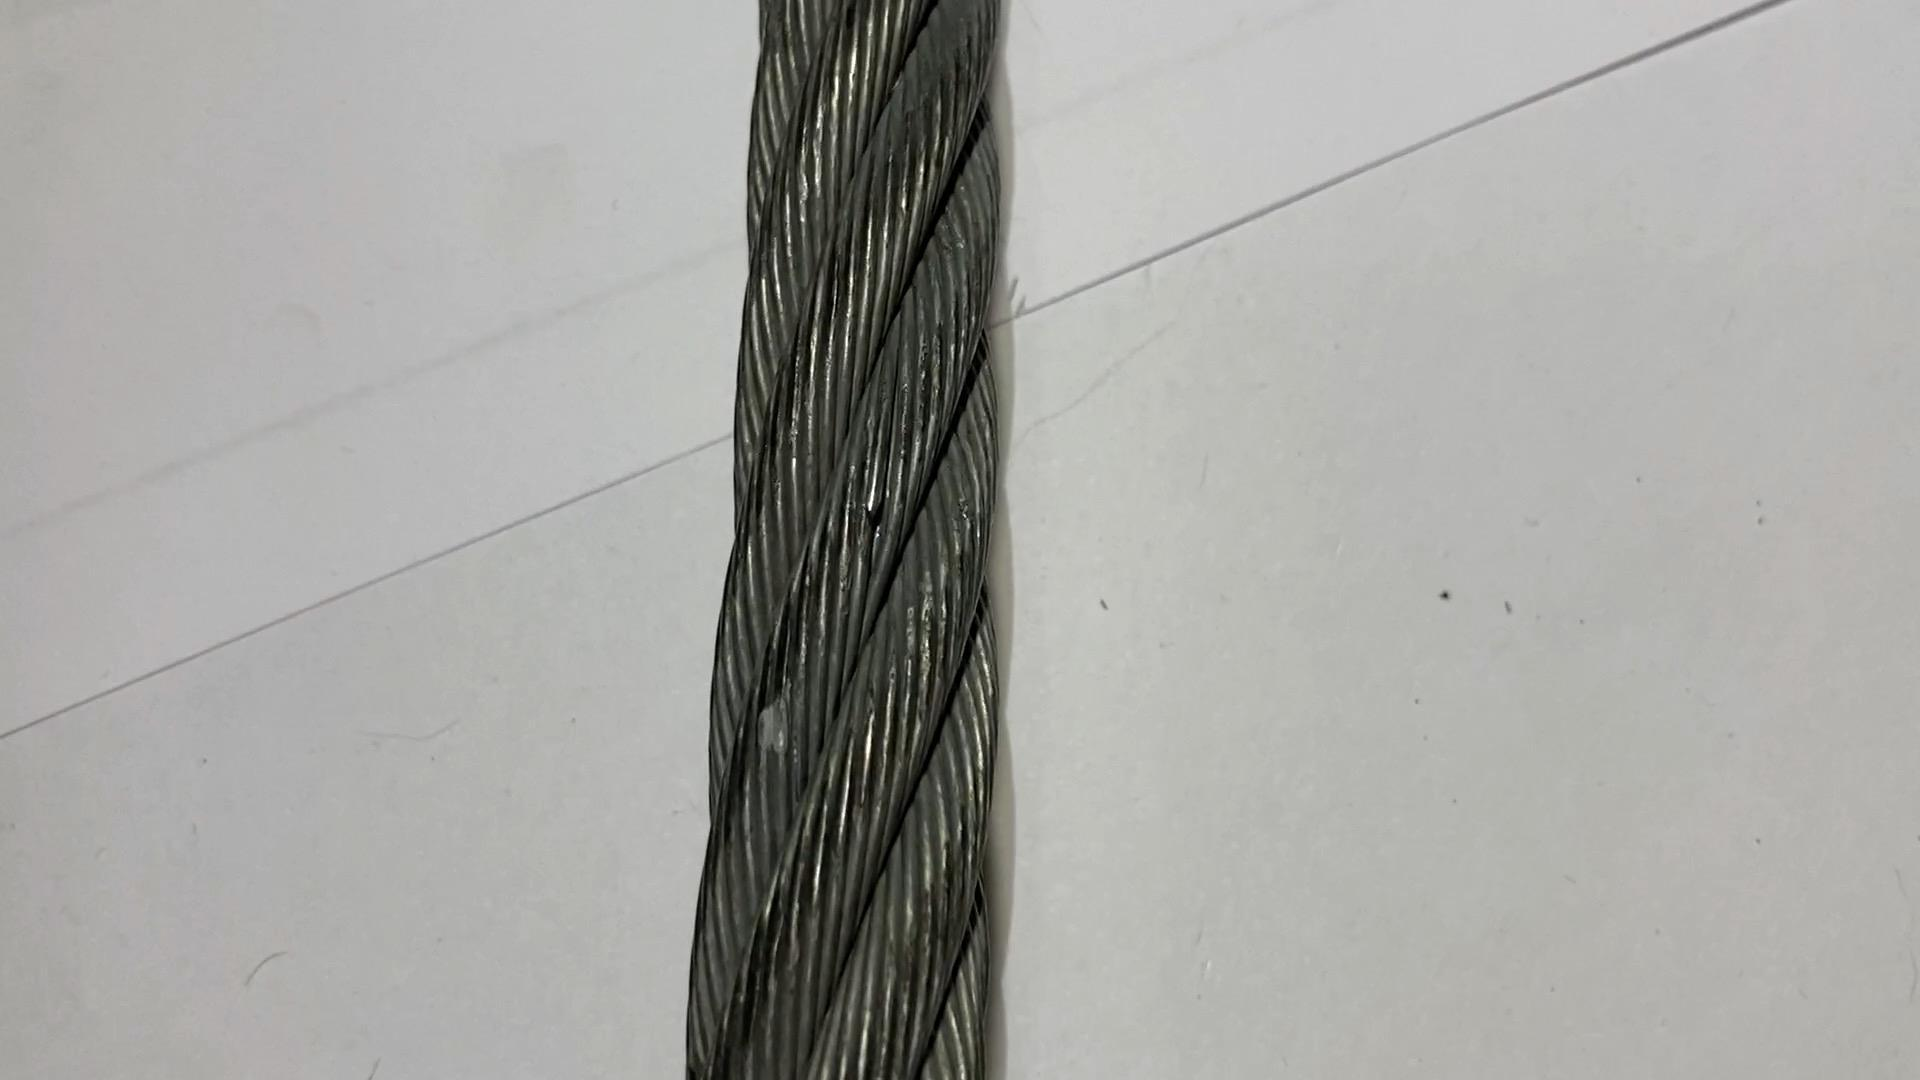break: (848, 469, 905, 524)
